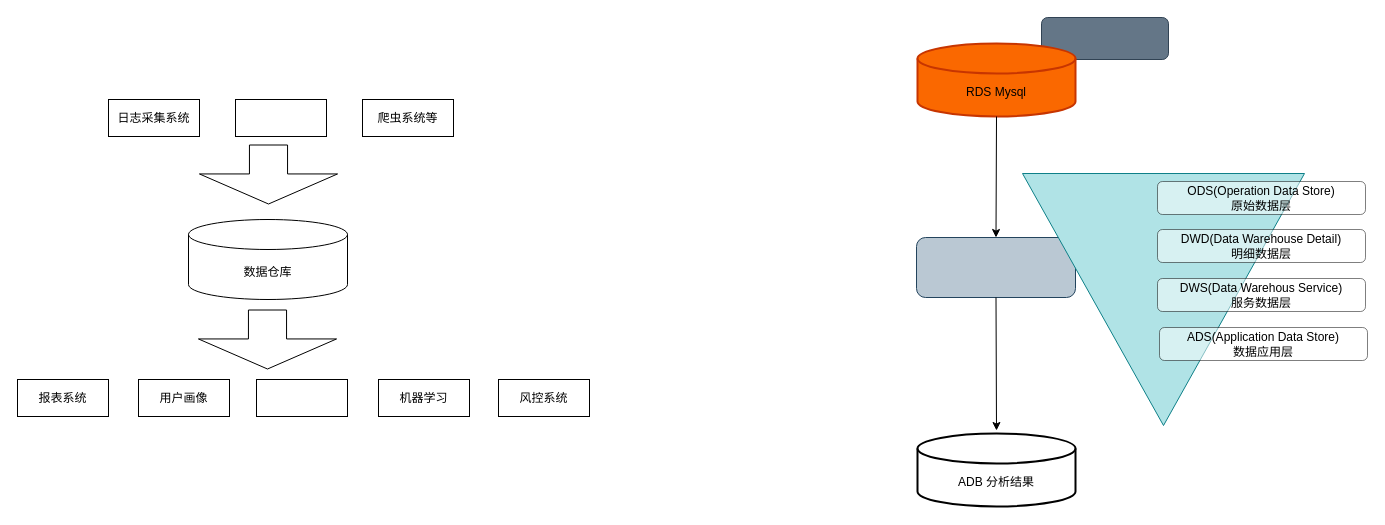
Some shapes in this 1385 by 525 pixel diagram are drawn without their labels. The shapes that lost their labels are listed below. From the top down, each one's box as (x1, y1, x2, y2) in pixels, then its label:
(1040, 16, 1168, 60): 业务（爬虫）系统
(234, 98, 326, 136): 业务系统数据库
(916, 236, 1076, 298): MaxCompute DataWorks
(256, 378, 348, 416): 推荐系统
